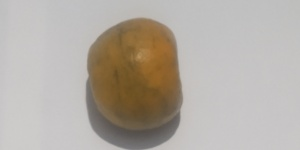BAD: (89, 17, 184, 132)
